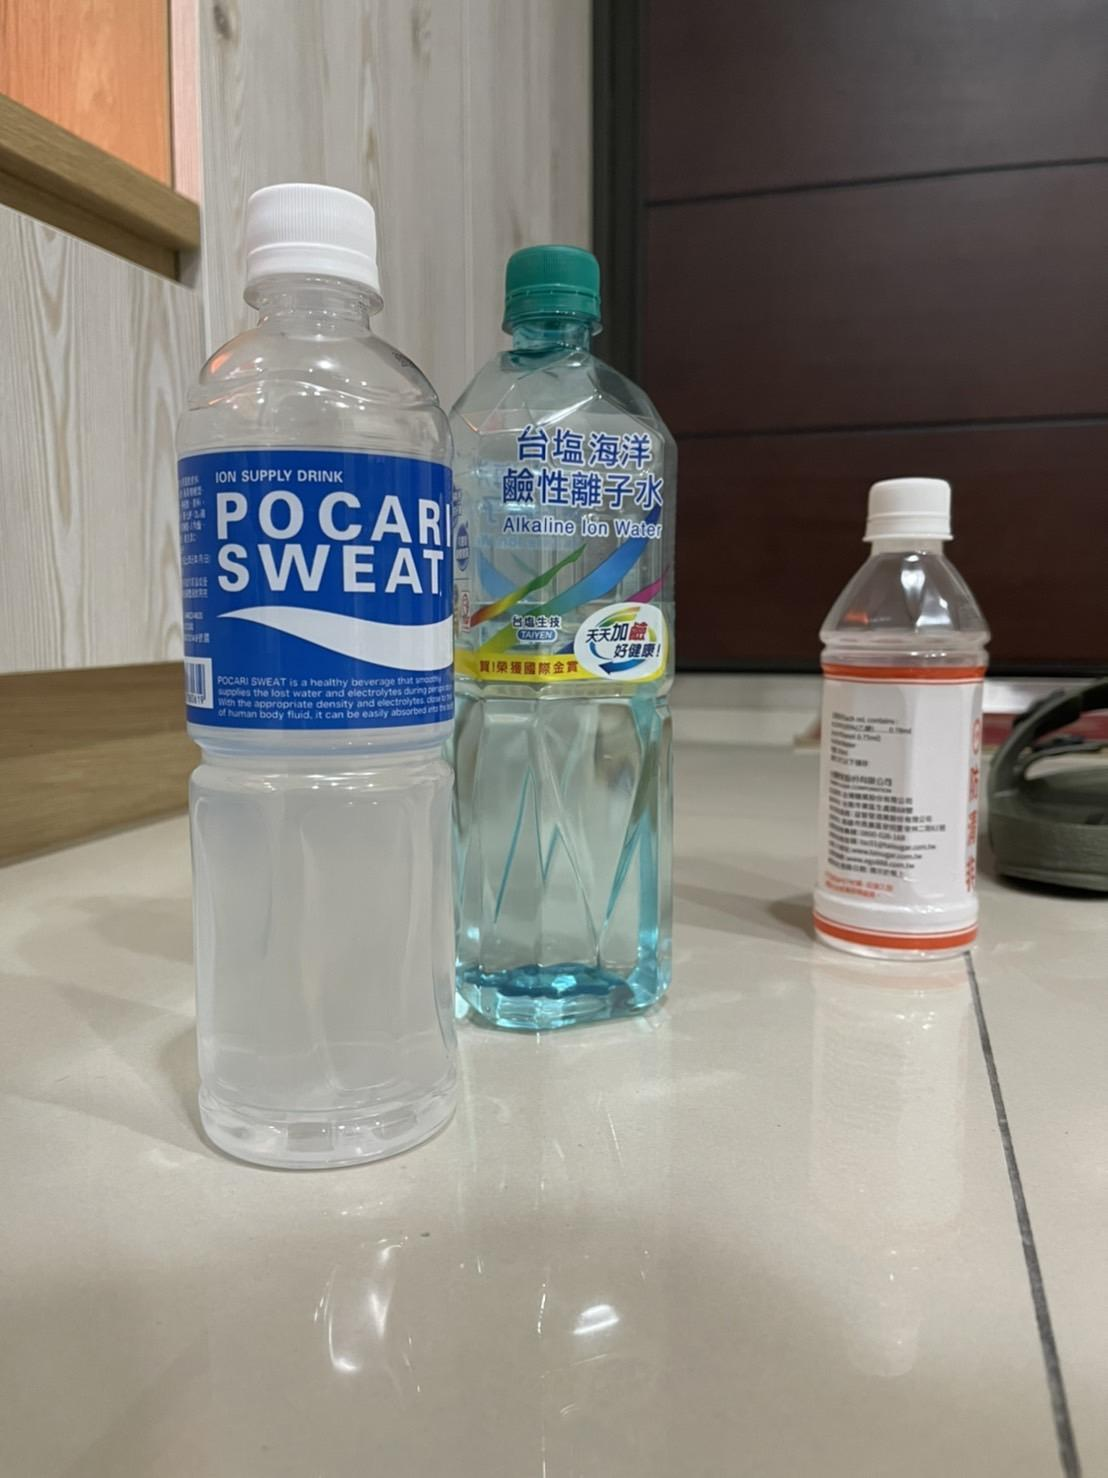bottle: (156, 170, 486, 1191), (450, 246, 684, 1044), (803, 476, 1001, 982)
